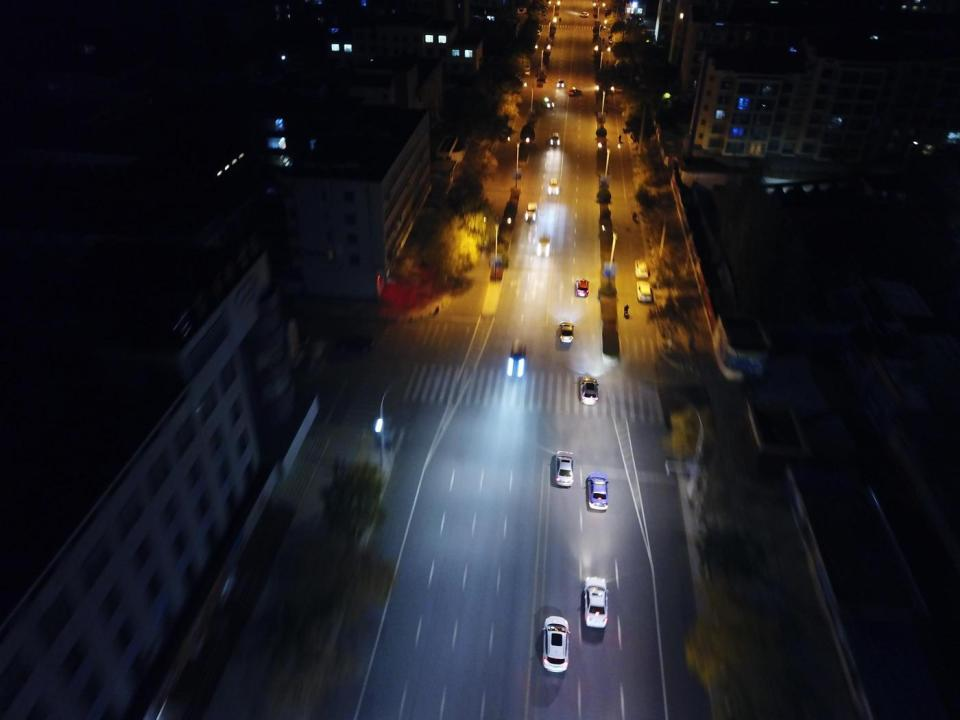car: (542, 615, 570, 672), (320, 333, 374, 360), (584, 575, 608, 629), (587, 476, 610, 511), (553, 449, 573, 487), (508, 339, 527, 377), (580, 374, 598, 404), (560, 320, 576, 344), (637, 281, 652, 302), (635, 258, 649, 278), (538, 234, 549, 256), (577, 279, 590, 296), (548, 178, 559, 195), (540, 96, 554, 108), (550, 132, 560, 147), (568, 86, 581, 97), (496, 131, 508, 141), (593, 25, 605, 30), (557, 80, 564, 88), (635, 16, 643, 22), (534, 29, 540, 36), (535, 24, 542, 30), (532, 42, 538, 49), (636, 23, 643, 29), (580, 11, 588, 16), (523, 69, 530, 74), (524, 62, 530, 67), (605, 8, 610, 14), (608, 34, 614, 39), (609, 39, 614, 44), (542, 11, 546, 16), (543, 5, 547, 10)
van: (525, 202, 536, 222)
